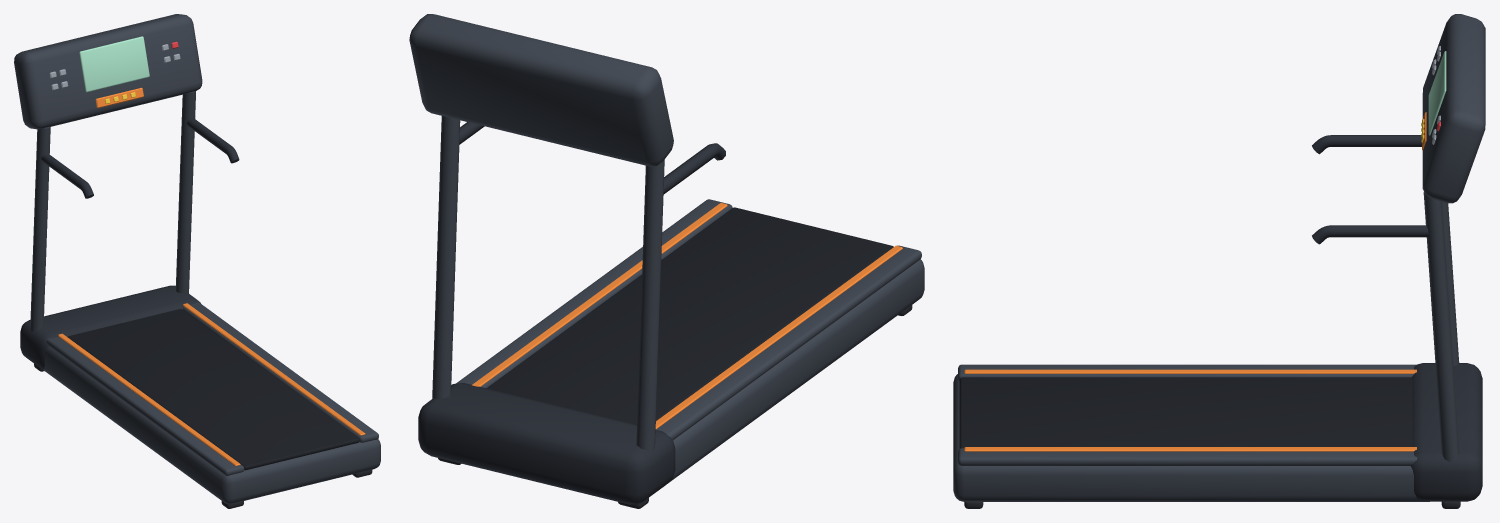
The model's file is esteira.glb.
The picture shows the model from 3 angles, left to right: view 1: azimuth 30°, elevation 25°; view 2: azimuth 150°, elevation 25°; view 3: azimuth 270°, elevation 25°; orthographic projection. The views are drawn at different scales.
Parts seen in each view (by area): view 1: esteira; view 2: esteira; view 3: esteira.
Boxes of the visible parts, x1,y1,x2,y2 form: esteira: [14, 14, 380, 508]; esteira: [409, 14, 924, 508]; esteira: [953, 14, 1485, 508].
Bounding box in the file's own units: 0.8 × 1.41 × 1.69.
Materials: 1 (1 with a texture image).
